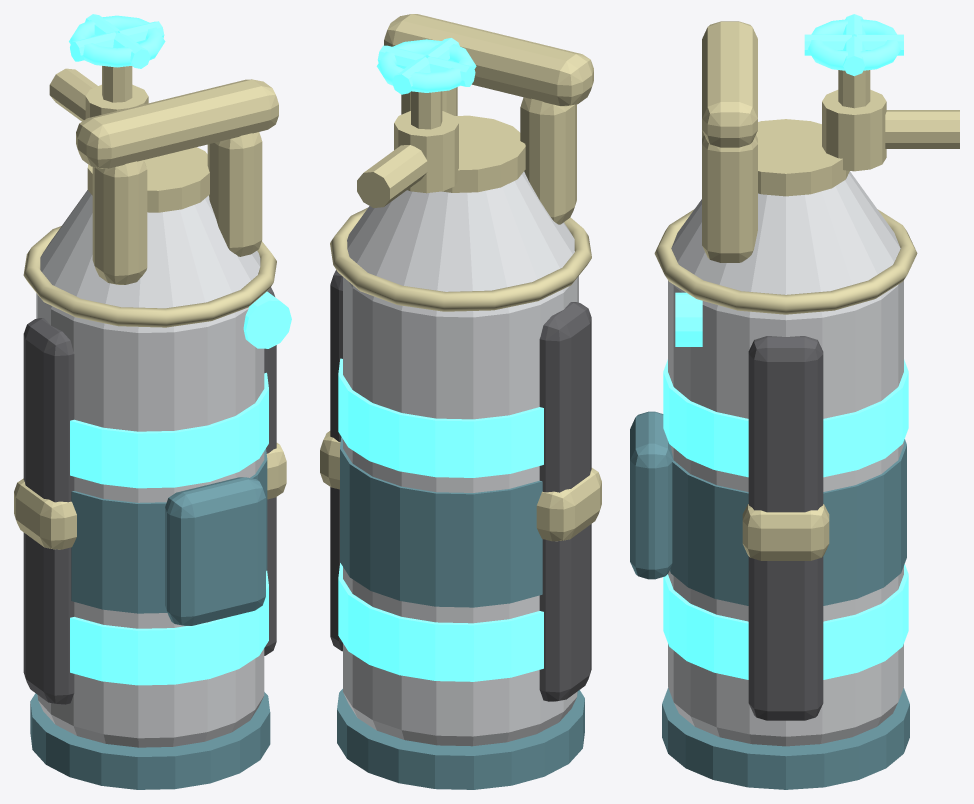
Rendered from pickup_o2_tank.glb.
The picture shows the model from 3 angles, left to right: view 1: azimuth 30°, elevation 25°; view 2: azimuth 150°, elevation 25°; view 3: azimuth 270°, elevation 25°; orthographic projection. The views are drawn at different scales.
Parts seen in each view (by area): view 1: pickup_o2_tank_body, pickup_o2_tank_harness_l, pickup_o2_tank_shoulder, pickup_o2_tank_stencil, pickup_o2_tank_band1, pickup_o2_tank_band0, pickup_o2_tank_base, pickup_o2_tank_label_wrap, pickup_o2_tank_handle_bar, pickup_o2_tank_handle_post_l, pickup_o2_tank_shoulder_band, pickup_o2_tank_handle_post_r (+12 smaller); view 2: pickup_o2_tank_body, pickup_o2_tank_label_wrap, pickup_o2_tank_shoulder, pickup_o2_tank_harness_l, pickup_o2_tank_band1, pickup_o2_tank_band0, pickup_o2_tank_base, pickup_o2_tank_handle_bar, pickup_o2_tank_shoulder_band, pickup_o2_tank_handle_post_l, pickup_o2_tank_top_ring, pickup_o2_tank_harness_r (+10 smaller); view 3: pickup_o2_tank_body, pickup_o2_tank_harness_r, pickup_o2_tank_label_wrap, pickup_o2_tank_shoulder, pickup_o2_tank_base, pickup_o2_tank_band1, pickup_o2_tank_band0, pickup_o2_tank_handle_bar, pickup_o2_tank_stencil, pickup_o2_tank_shoulder_band, pickup_o2_tank_handle_post_r, pickup_o2_tank_top_ring (+7 smaller).
Boxes of the visible parts, left/top/right/bottom form: pickup_o2_tank_body: left=36, top=293, right=264, bottom=747; pickup_o2_tank_harness_l: left=23, top=318, right=74, bottom=704; pickup_o2_tank_shoulder: left=40, top=190, right=260, bottom=308; pickup_o2_tank_stencil: left=165, top=477, right=265, bottom=625; pickup_o2_tank_band1: left=70, top=372, right=268, bottom=488; pickup_o2_tank_band0: left=70, top=570, right=268, bottom=685; pickup_o2_tank_base: left=30, top=692, right=270, bottom=789; pickup_o2_tank_label_wrap: left=71, top=449, right=267, bottom=613; pickup_o2_tank_handle_bar: left=76, top=79, right=278, bottom=168; pickup_o2_tank_handle_post_l: left=92, top=160, right=147, bottom=284; pickup_o2_tank_shoulder_band: left=23, top=226, right=276, bottom=327; pickup_o2_tank_handle_post_r: left=207, top=132, right=262, bottom=256; pickup_o2_tank_body: left=343, top=276, right=578, bottom=746; pickup_o2_tank_label_wrap: left=340, top=437, right=542, bottom=607; pickup_o2_tank_shoulder: left=347, top=171, right=574, bottom=291; pickup_o2_tank_harness_l: left=539, top=302, right=591, bottom=701; pickup_o2_tank_band1: left=338, top=358, right=543, bottom=477; pickup_o2_tank_band0: left=338, top=563, right=543, bottom=681; pickup_o2_tank_base: left=337, top=689, right=584, bottom=789; pickup_o2_tank_handle_bar: left=384, top=14, right=593, bottom=106; pickup_o2_tank_shoulder_band: left=330, top=207, right=591, bottom=311; pickup_o2_tank_handle_post_l: left=520, top=97, right=576, bottom=224; pickup_o2_tank_top_ring: left=442, top=115, right=525, bottom=192; pickup_o2_tank_harness_r: left=330, top=270, right=342, bottom=651; pickup_o2_tank_body: left=668, top=280, right=903, bottom=746; pickup_o2_tank_harness_r: left=748, top=336, right=823, bottom=720; pickup_o2_tank_label_wrap: left=669, top=439, right=906, bottom=605; pickup_o2_tank_shoulder: left=671, top=171, right=900, bottom=294; pickup_o2_tank_base: left=662, top=688, right=909, bottom=789; pickup_o2_tank_band1: left=663, top=359, right=908, bottom=477; pickup_o2_tank_band0: left=663, top=564, right=908, bottom=679; pickup_o2_tank_handle_bar: left=702, top=21, right=757, bottom=147; pickup_o2_tank_stencil: left=630, top=411, right=673, bottom=579; pickup_o2_tank_shoulder_band: left=654, top=209, right=917, bottom=314; pickup_o2_tank_handle_post_r: left=702, top=135, right=757, bottom=262; pickup_o2_tank_top_ring: left=756, top=119, right=849, bottom=196.
Size of the model in its own units: 0.234 by 0.624 by 0.2655.
